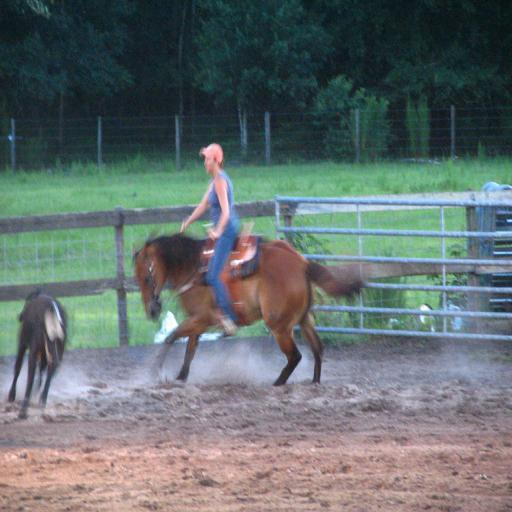horse: (132, 227, 368, 387), (3, 288, 69, 421)
